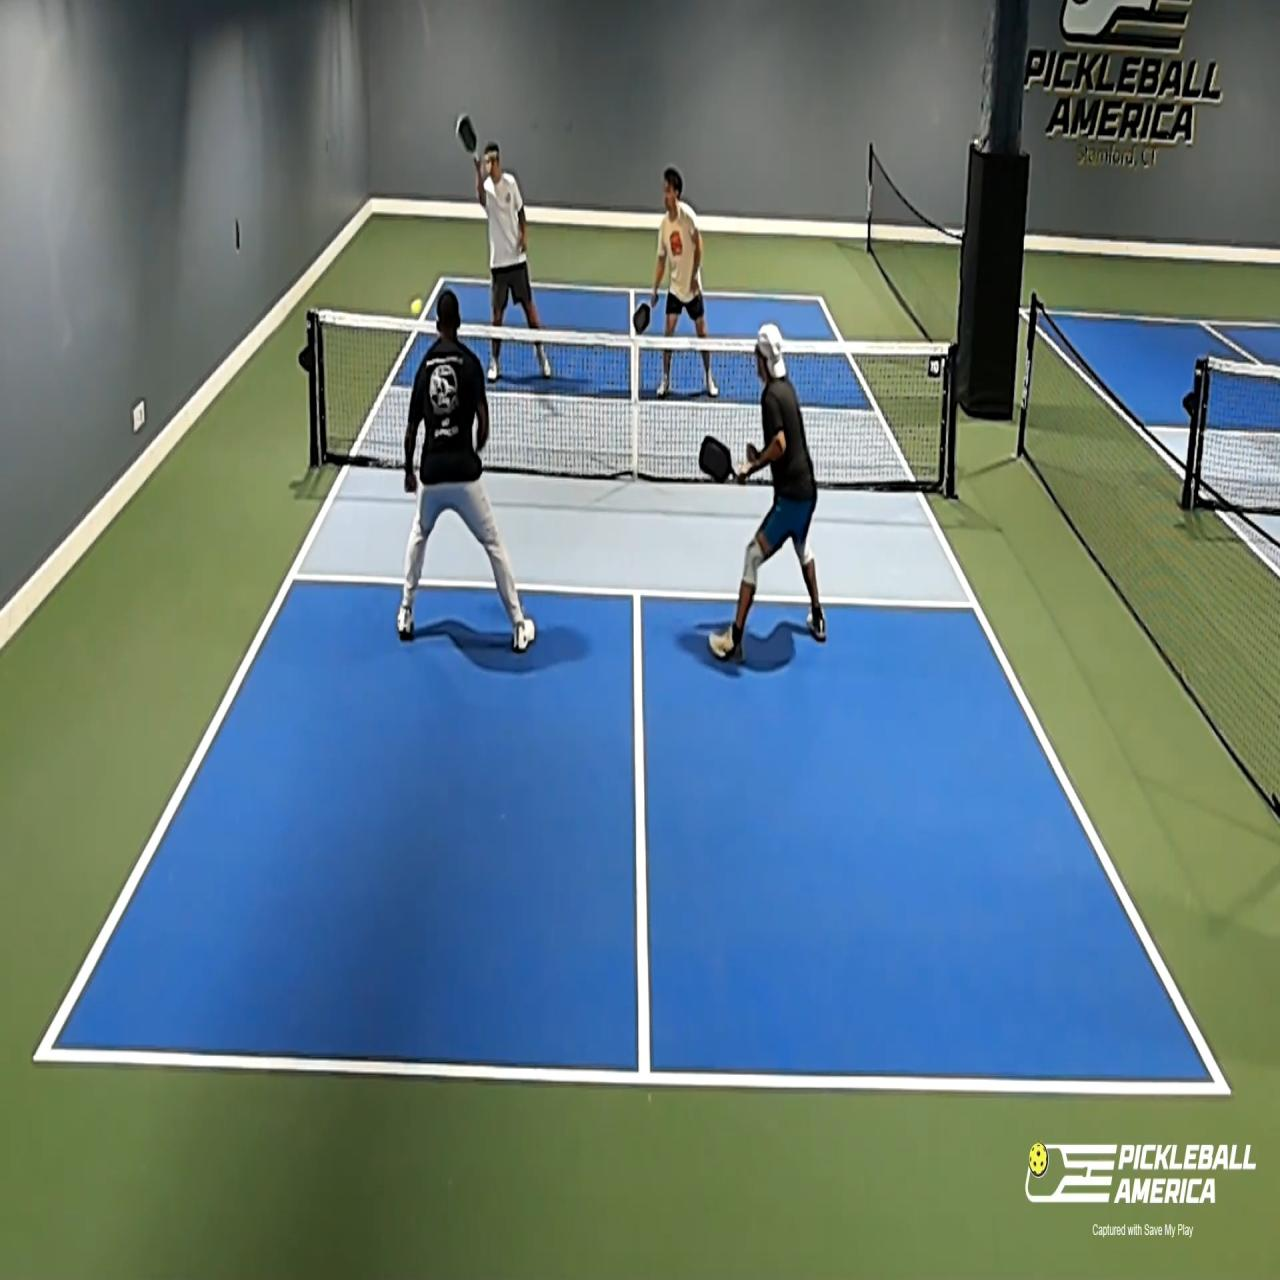Pickleball: (410, 294, 424, 314)
